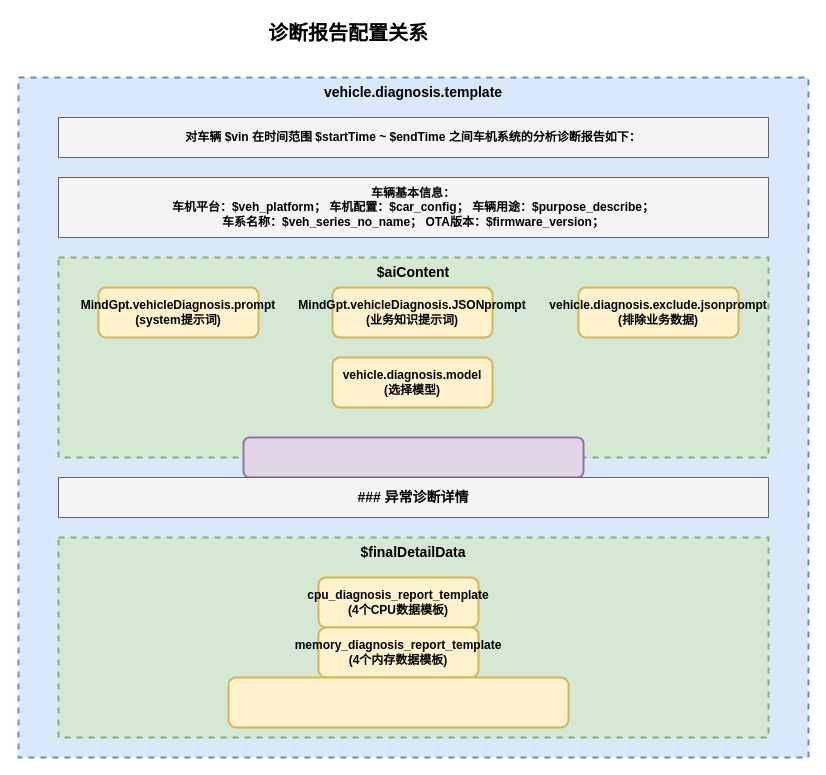
The diagram is 826 pixels wide and 775 high, and some of its shapes have lost their labels. The shapes that lost their labels are listed below. From the top down, each one's centre as x and y in pixels, then its label:
pixel 413 457: aiContent结果
pixel 398 702: crs.data.diagnosis (自定义诊断项)
